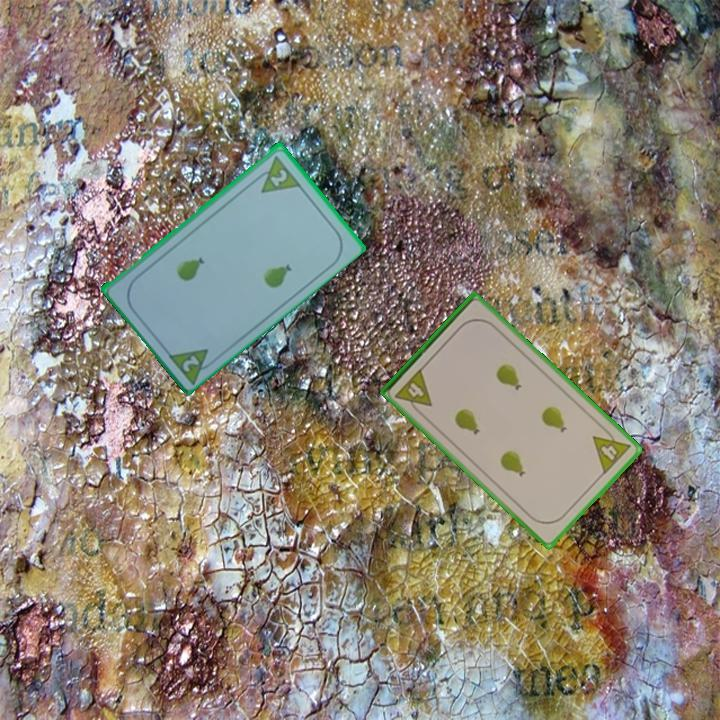2p: (164, 344, 220, 386), (267, 165, 290, 189)
4p: (589, 423, 633, 477), (392, 364, 435, 418)
